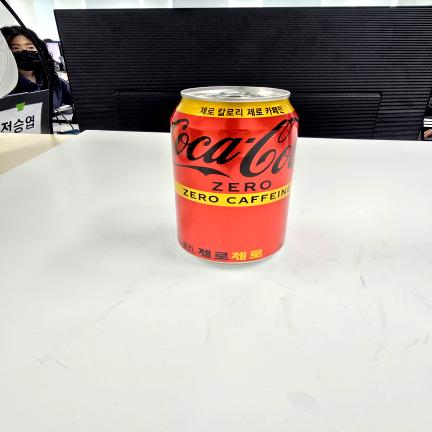can_coke_decaf: (170, 87, 299, 264)
